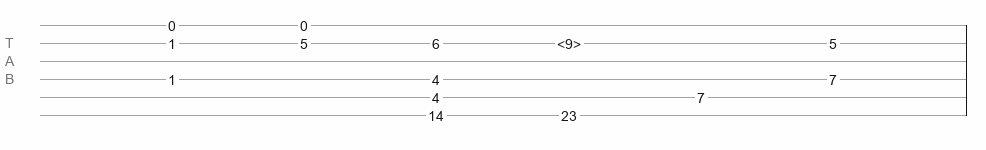0: (168, 18, 176, 28), (300, 18, 308, 28)
1: (168, 72, 176, 82), (168, 36, 176, 46)
14: (428, 108, 444, 118)
23: (561, 108, 577, 118)
4: (432, 90, 440, 100), (432, 72, 440, 82)
5: (300, 36, 308, 46), (829, 36, 837, 46)
6: (432, 36, 440, 46)
7: (697, 90, 705, 100), (829, 72, 837, 82)
harmonic: (557, 36, 581, 46)
